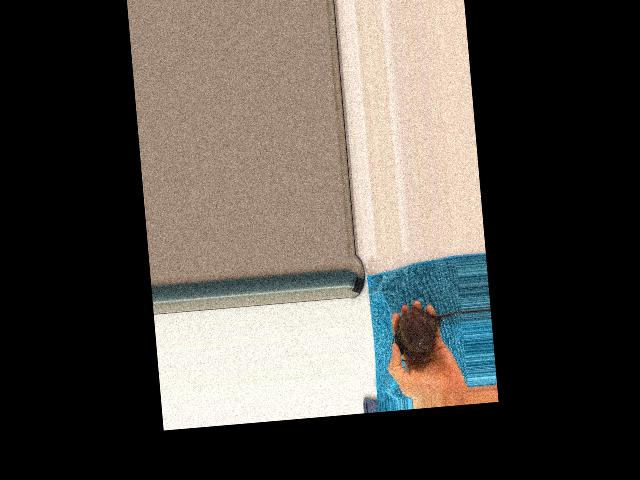beet: (389, 303, 466, 365)
